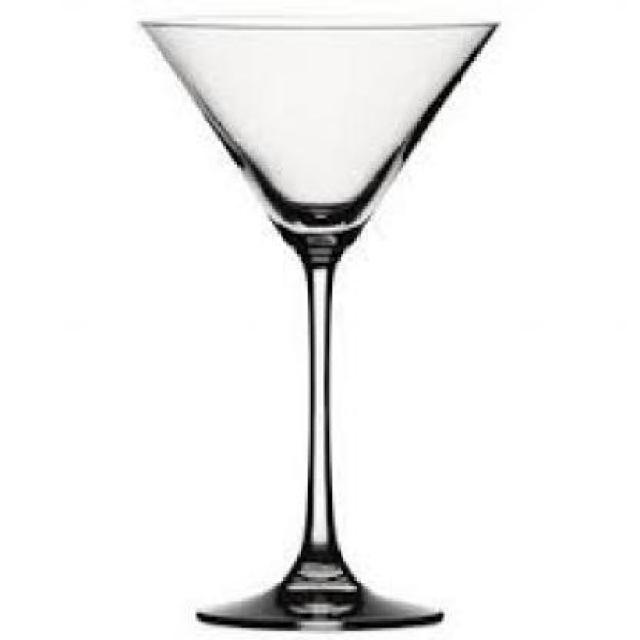kaca: (134, 18, 495, 628)
